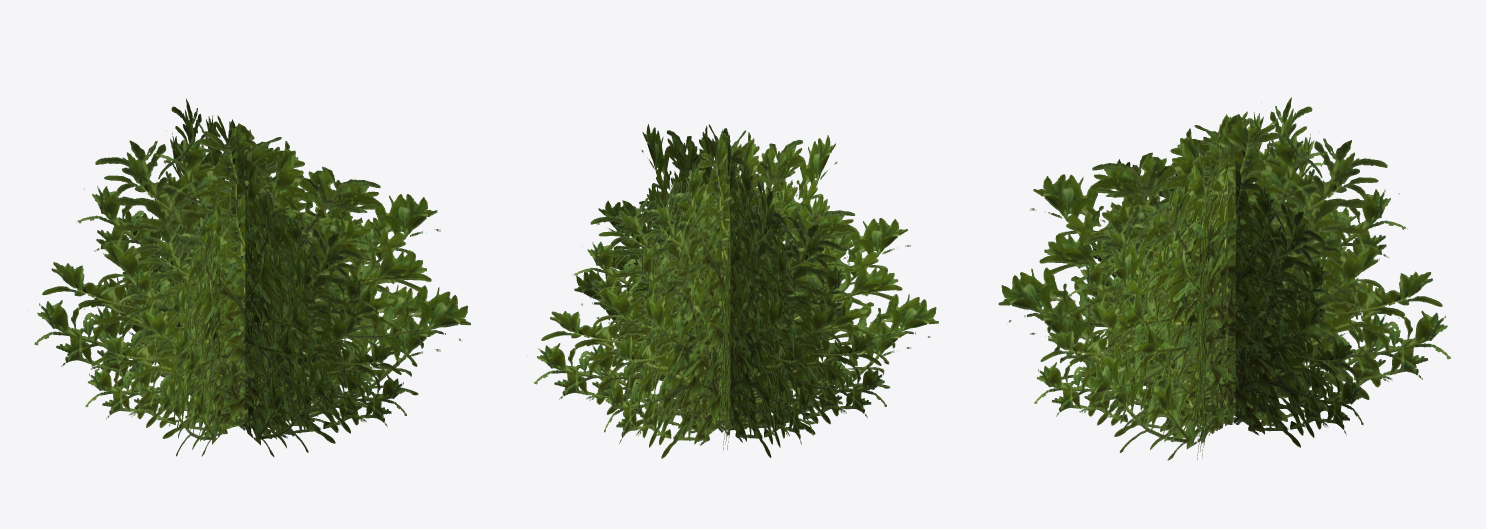
File: Bush01.FBX
3 views of the same model, side by side, from view 1: azimuth 30°, elevation 25°; view 2: azimuth 150°, elevation 25°; view 3: azimuth 270°, elevation 25° (orthographic). The views are drawn at different scales.
Parts seen in each view (by area): view 1: Bush01; view 2: Bush01; view 3: Bush01.
Boxes of the visible parts, bbox=[...] form: Bush01: bbox=[34, 98, 470, 457]; Bush01: bbox=[534, 124, 938, 458]; Bush01: bbox=[998, 97, 1450, 460].
Bounding box in the file's own units: 140 × 122 × 163.
